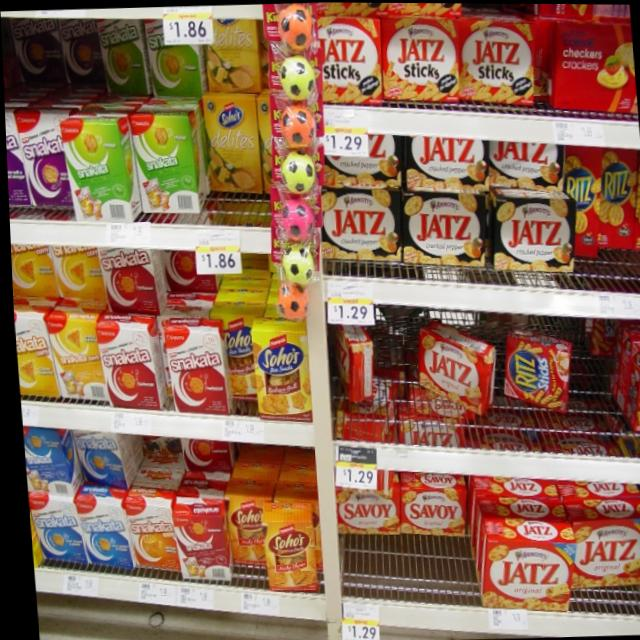q109: (400, 179, 490, 269), (323, 183, 401, 275), (493, 193, 573, 272)
